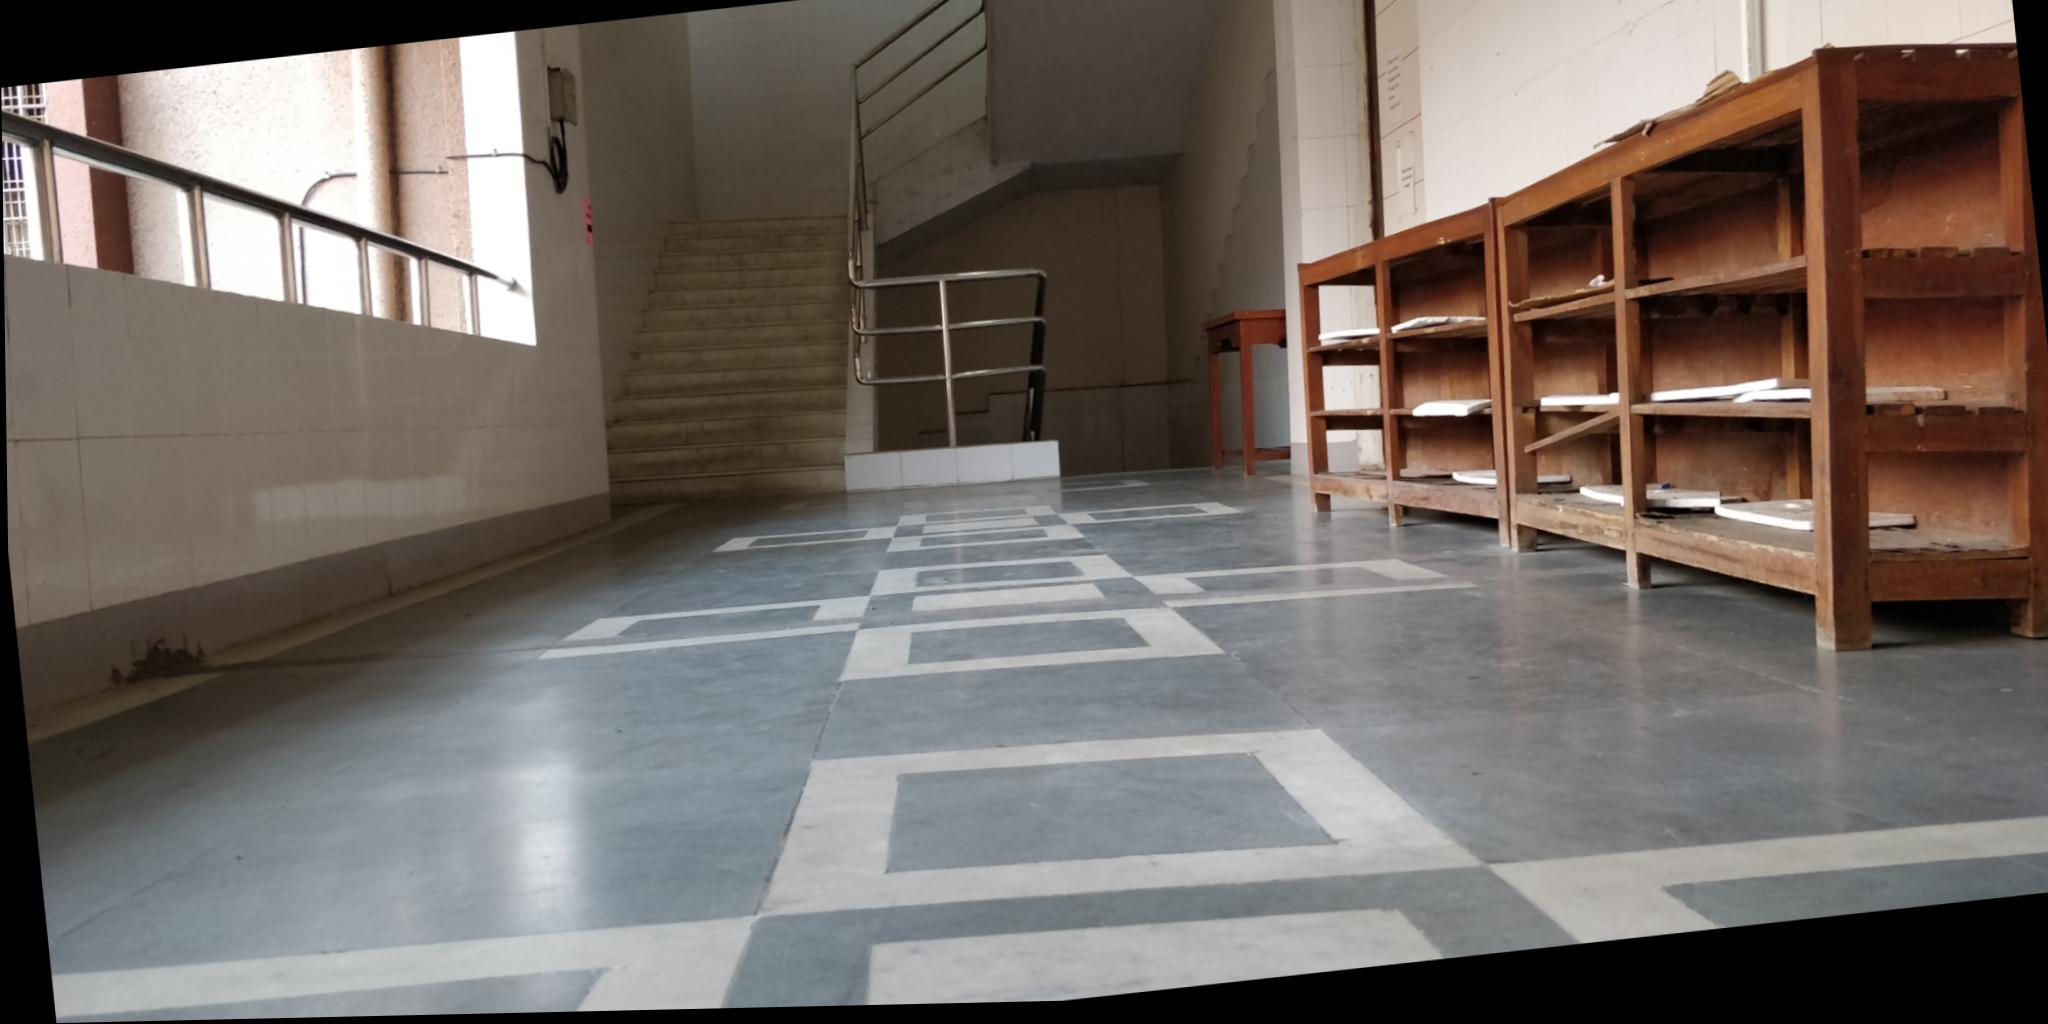Bench: (597, 182, 850, 524)
